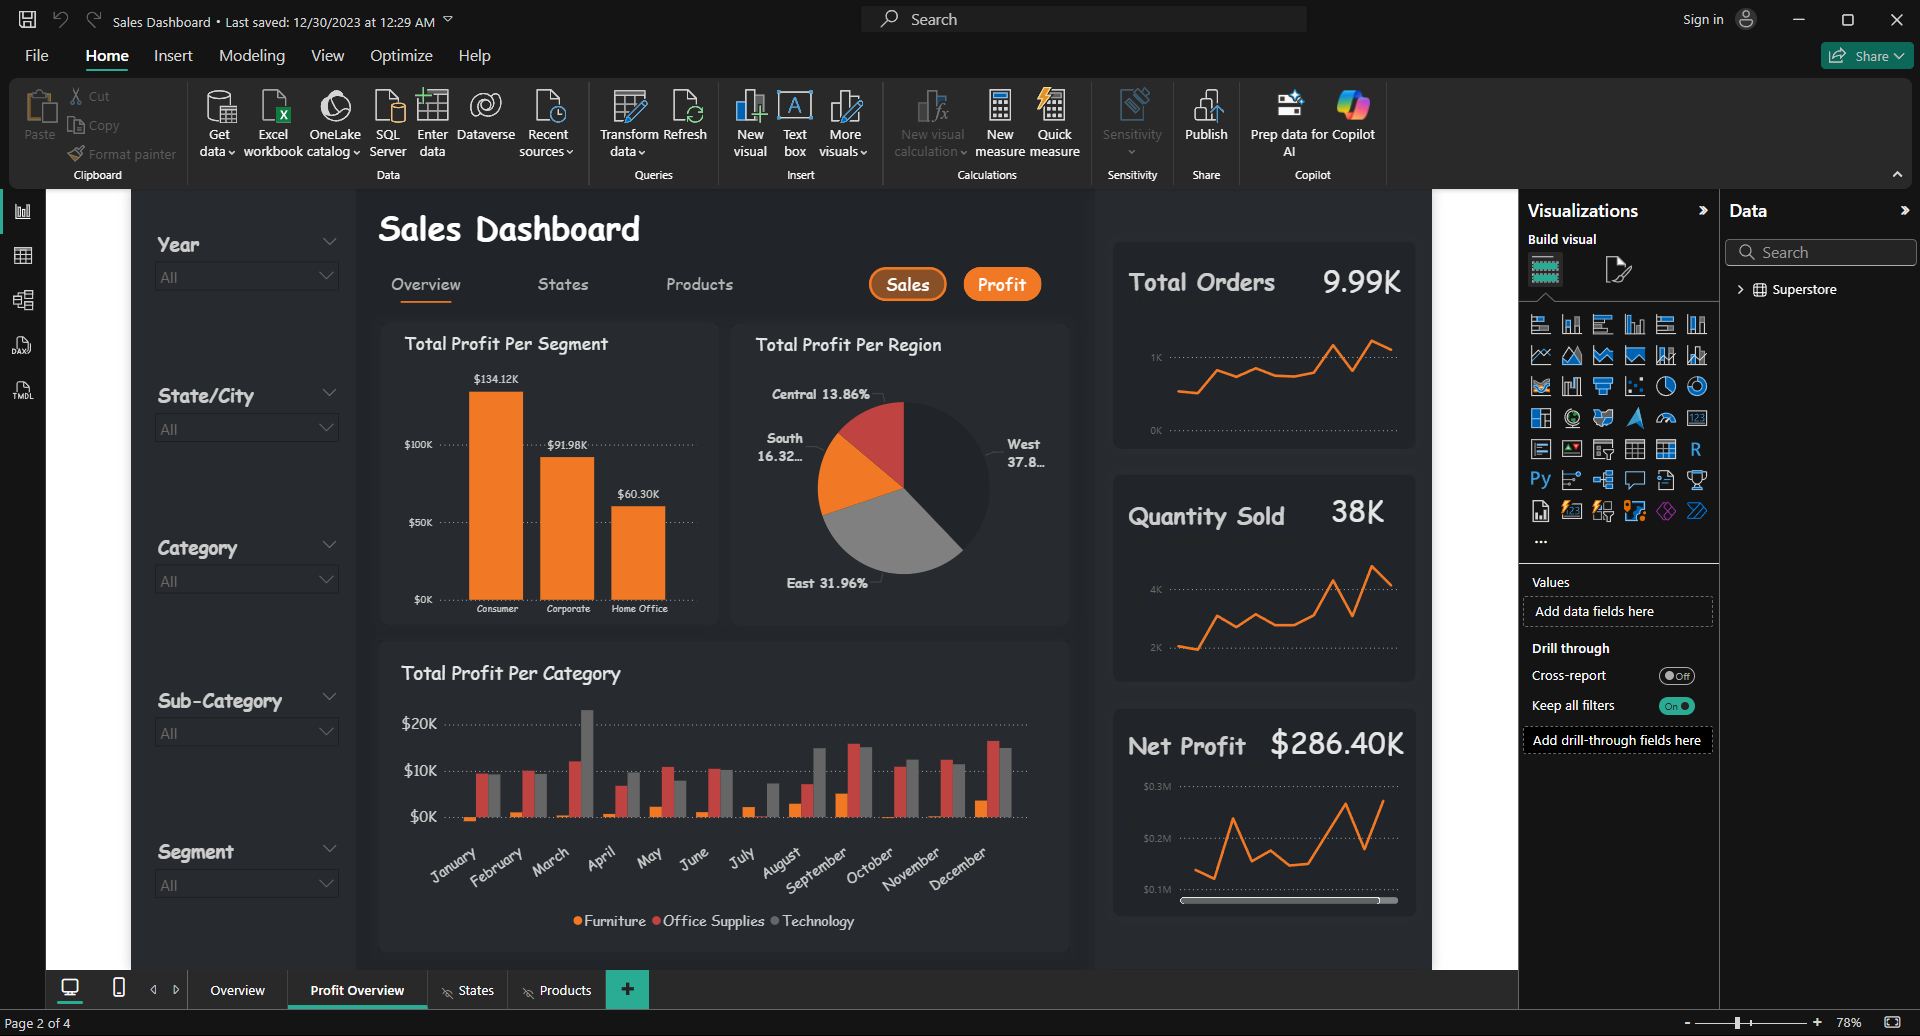

What the dashboard file says about the page in this screenshot:
{"tool":"powerbi","page":{"name":"Profit Overview","canvas":[1500,900],"ordinal":1},"visuals":[{"type":"shape","box":[0,0,259.7,900.6],"z":0},{"type":"shape","box":[1110.9,0,388.9,899.4],"z":1000},{"type":"shape","box":[1131.4,599.2,350,240],"z":2000},{"type":"shape","box":[1132.4,329.5,349,239.2],"z":3000},{"type":"shape","box":[1132.4,59.9,349,239.2],"z":4000},{"type":"shape","box":[287.3,154.5,390.1,348.3],"z":5000},{"type":"textbox","box":[1144.9,81.2,202,60.2],"z":6000},{"type":"card","fields":{"Values":["CountNonNull(Superstore.Order ID)"]},"box":[1348.6,70.6,138.2,69.1],"z":7000},{"type":"card","fields":{"Values":["Sum(Superstore.Quantity)"]},"box":[1343.3,336.3,138.2,69.1],"z":8000},{"type":"textbox","box":[1144.9,350.5,198.4,60.2],"z":9000},{"type":"textbox","box":[1144.9,616.2,193.1,60.2],"z":10000},{"type":"card","fields":{"Values":["Sum(Superstore.Profit)"]},"box":[1307.2,604.2,165.9,69.7],"z":11000},{"type":"lineChart","fields":{"Y":["CountNonNull(Superstore.Order ID)"],"Category":["Superstore.Order Date.Variation.Date Hierarchy.Month"]},"box":[1152,118.4,313.6,173.6],"z":12000},{"type":"lineChart","fields":{"Category":["Superstore.Order Date.Variation.Date Hierarchy.Month"],"Y":["Sum(Superstore.Quantity)"]},"box":[1152,394.8,313.6,173.6],"z":13000},{"type":"lineChart","fields":{"Category":["Superstore.Order Date.Variation.Date Hierarchy.Month"],"Y":["Sum(Superstore.Sales)"]},"box":[1144.9,655.2,320.7,173.6],"z":14000},{"type":"shape","box":[285,520.6,796.8,359.7],"z":15000},{"type":"clusteredColumnChart","title":"Total Profit Per Segment","fields":{"Category":["Superstore.Segment"],"Y":["Sum(Superstore.Profit)"]},"box":[310.1,163.4,347.1,339.5],"z":16000},{"type":"clusteredColumnChart","title":"Total Profit Per Category","fields":{"Series":["Superstore.Category"],"Category":["Superstore.Order Date.Variation.Date Hierarchy.Month"],"Y":["Sum(Superstore.Profit)"]},"box":[305.3,542.2,736,321.7],"z":17000},{"type":"actionButton","title":"Sales","box":[850,90.2,89.9,39.3],"z":18000},{"type":"actionButton","title":"Sales","box":[960,90.2,89.9,39.3],"z":19000},{"type":"slicer","title":"City ","fields":{"Values":["Superstore.State","Superstore.City"]},"box":[17.6,217.3,231.8,110.2],"z":20000},{"type":"slicer","title":"City ","fields":{"Values":["Superstore.Category"]},"box":[17.6,392.3,231.8,110.2],"z":21000},{"type":"slicer","title":"City ","fields":{"Values":["Superstore.Segment"]},"box":[17.5,742.3,232,110],"z":22000},{"type":"slicer","title":"City ","fields":{"Values":["Superstore.Order Date.Variation.Date Hierarchy.Year"]},"box":[17.5,42.5,232,110],"z":23000},{"type":"slicer","title":"City ","fields":{"Values":["Superstore.Sub-Category"]},"box":[17.6,567.3,231.8,110.2],"z":24000},{"type":"textbox","box":[279.9,11.4,347.1,69.7],"z":25000},{"type":"pageNavigator","box":[266,84.9,464.9,48.1],"z":26000},{"type":"shape","box":[691.5,155.4,390.1,348.3],"z":27000},{"type":"pieChart","title":"Total Profit Per Region","fields":{"Category":["Superstore.Region"],"Y":["Sum(Superstore.Profit)"]},"box":[714.4,164.7,352.1,328.1],"z":28000},{"type":"shape","box":[310.3,114,58.3,31.7],"z":29000}]}

Visuals, with their boxes on the page's 1500x900 design canvas (x1, y1, x2, y2). These are canvas units, not pixel positions in the 1920x1036 screenshot, which may show the page scaled, cropped or inside an application window:
shape: [left=0, top=0, right=260, bottom=901]
shape: [left=1111, top=0, right=1500, bottom=899]
shape: [left=1131, top=599, right=1481, bottom=839]
shape: [left=1132, top=330, right=1481, bottom=569]
shape: [left=1132, top=60, right=1481, bottom=299]
shape: [left=287, top=154, right=677, bottom=503]
textbox: [left=1145, top=81, right=1347, bottom=141]
card - CountNonNull(Superstore.Order ID): [left=1349, top=71, right=1487, bottom=140]
card - Sum(Superstore.Quantity): [left=1343, top=336, right=1482, bottom=405]
textbox: [left=1145, top=350, right=1343, bottom=411]
textbox: [left=1145, top=616, right=1338, bottom=676]
card - Sum(Superstore.Profit): [left=1307, top=604, right=1473, bottom=674]
lineChart - CountNonNull(Superstore.Order ID) x Superstore.Order Date.Variation.Date Hierarchy.Month: [left=1152, top=118, right=1466, bottom=292]
lineChart - Superstore.Order Date.Variation.Date Hierarchy.Month x Sum(Superstore.Quantity): [left=1152, top=395, right=1466, bottom=568]
lineChart - Superstore.Order Date.Variation.Date Hierarchy.Month x Sum(Superstore.Sales): [left=1145, top=655, right=1466, bottom=829]
shape: [left=285, top=521, right=1082, bottom=880]
"Total Profit Per Segment" clusteredColumnChart: [left=310, top=163, right=657, bottom=503]
"Total Profit Per Category" clusteredColumnChart: [left=305, top=542, right=1041, bottom=864]
"Sales" actionButton: [left=850, top=90, right=940, bottom=130]
"Sales" actionButton: [left=960, top=90, right=1050, bottom=130]
"City " slicer: [left=18, top=217, right=249, bottom=328]
"City " slicer: [left=18, top=392, right=249, bottom=502]
"City " slicer: [left=18, top=742, right=250, bottom=852]
"City " slicer: [left=18, top=42, right=250, bottom=152]
"City " slicer: [left=18, top=567, right=249, bottom=678]
textbox: [left=280, top=11, right=627, bottom=81]
pageNavigator: [left=266, top=85, right=731, bottom=133]
shape: [left=692, top=155, right=1082, bottom=504]
"Total Profit Per Region" pieChart: [left=714, top=165, right=1066, bottom=493]
shape: [left=310, top=114, right=369, bottom=146]
